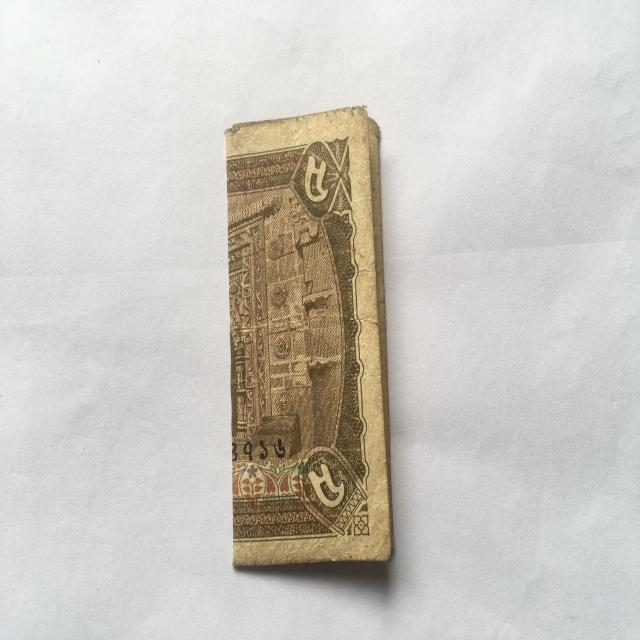Taka: (219, 120, 402, 570)
